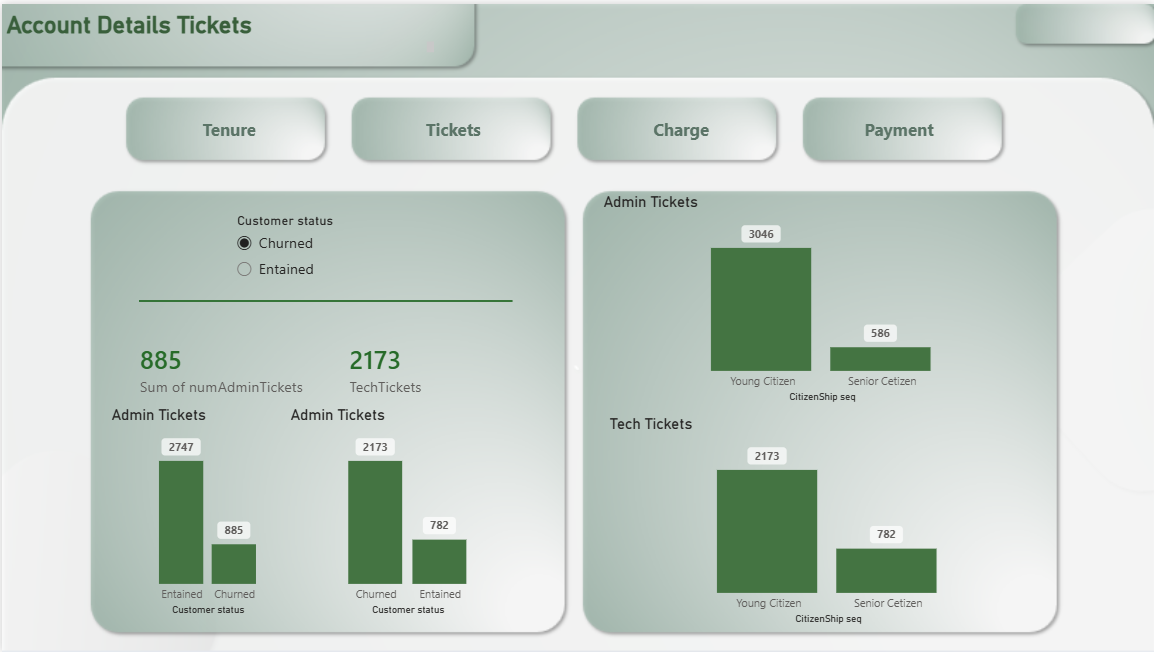

This screenshot's page, from the dashboard's own definition file:
{"tool":"powerbi","page":{"name":"Account Details Tickets","canvas":[1280,720],"ordinal":2},"visuals":[{"type":"textbox","title":"Account Details Tickets","box":[0,7.1,484.8,52.4],"z":0},{"type":"lineClusteredColumnComboChart","title":"Admin Tickets","fields":{"Y":["Sum(01 Churn-Dataset.numAdminTickets)"],"Category":["01 Churn-Dataset.CitizenShip seq"]},"box":[663.3,210,496.7,236.7],"z":1000},{"type":"actionButton","box":[416.3,114.9,169.3,48.4],"z":2000},{"type":"actionButton","box":[670.2,114.9,169.3,48.4],"z":3000},{"type":"actionButton","box":[912.1,114.9,169.3,48.4],"z":4000},{"type":"actionButton","box":[168.3,114.9,169.3,48.4],"z":5000},{"type":"cardVisual","fields":{"Data":["Sum(01 Churn-Dataset.numAdminTickets)","Sum(01 Churn-Dataset.numTechTickets)"]},"box":[151.7,351.7,461.7,105],"z":6000},{"type":"slicer","fields":{"Values":["01 Churn-Dataset.Customer status"]},"box":[253.3,231.7,175,96.7],"z":7000},{"type":"shape","box":[151.7,300,415,60],"z":8000},{"type":"lineClusteredColumnComboChart","title":"Tech Tickets","fields":{"Y":["Sum(01 Churn-Dataset.numTechTickets)"],"Category":["01 Churn-Dataset.CitizenShip seq"]},"box":[670,456.7,496.7,236.7],"z":9000},{"type":"lineClusteredColumnComboChart","title":"Admin Tickets","fields":{"Y":["Sum(01 Churn-Dataset.numAdminTickets)"],"Category":["01 Churn-Dataset.Customer status"]},"box":[116.7,446.7,225,236.7],"z":9001},{"type":"lineClusteredColumnComboChart","title":"Admin Tickets","fields":{"Category":["01 Churn-Dataset.Customer status"],"Y":["Sum(01 Churn-Dataset.numTechTickets)"]},"box":[315,446.7,271.7,236.7],"z":9002}]}

Visuals, with their boxes in screenshot pixels (x1, y1, x2, y2), scaled from the page's 1280x720 canvas onto the 1154x652 screenshot:
"Account Details Tickets" textbox: (0,6,437,54)
"Admin Tickets" lineClusteredColumnComboChart: (598,190,1046,405)
actionButton: (375,104,528,148)
actionButton: (604,104,757,148)
actionButton: (822,104,975,148)
actionButton: (152,104,304,148)
cardVisual - Sum(01 Churn-Dataset.numAdminTickets) x Sum(01 Churn-Dataset.numTechTickets): (137,318,553,414)
slicer - 01 Churn-Dataset.Customer status: (228,210,386,297)
shape: (137,272,511,326)
"Tech Tickets" lineClusteredColumnComboChart: (604,414,1052,628)
"Admin Tickets" lineClusteredColumnComboChart: (105,405,308,619)
"Admin Tickets" lineClusteredColumnComboChart: (284,405,529,619)
